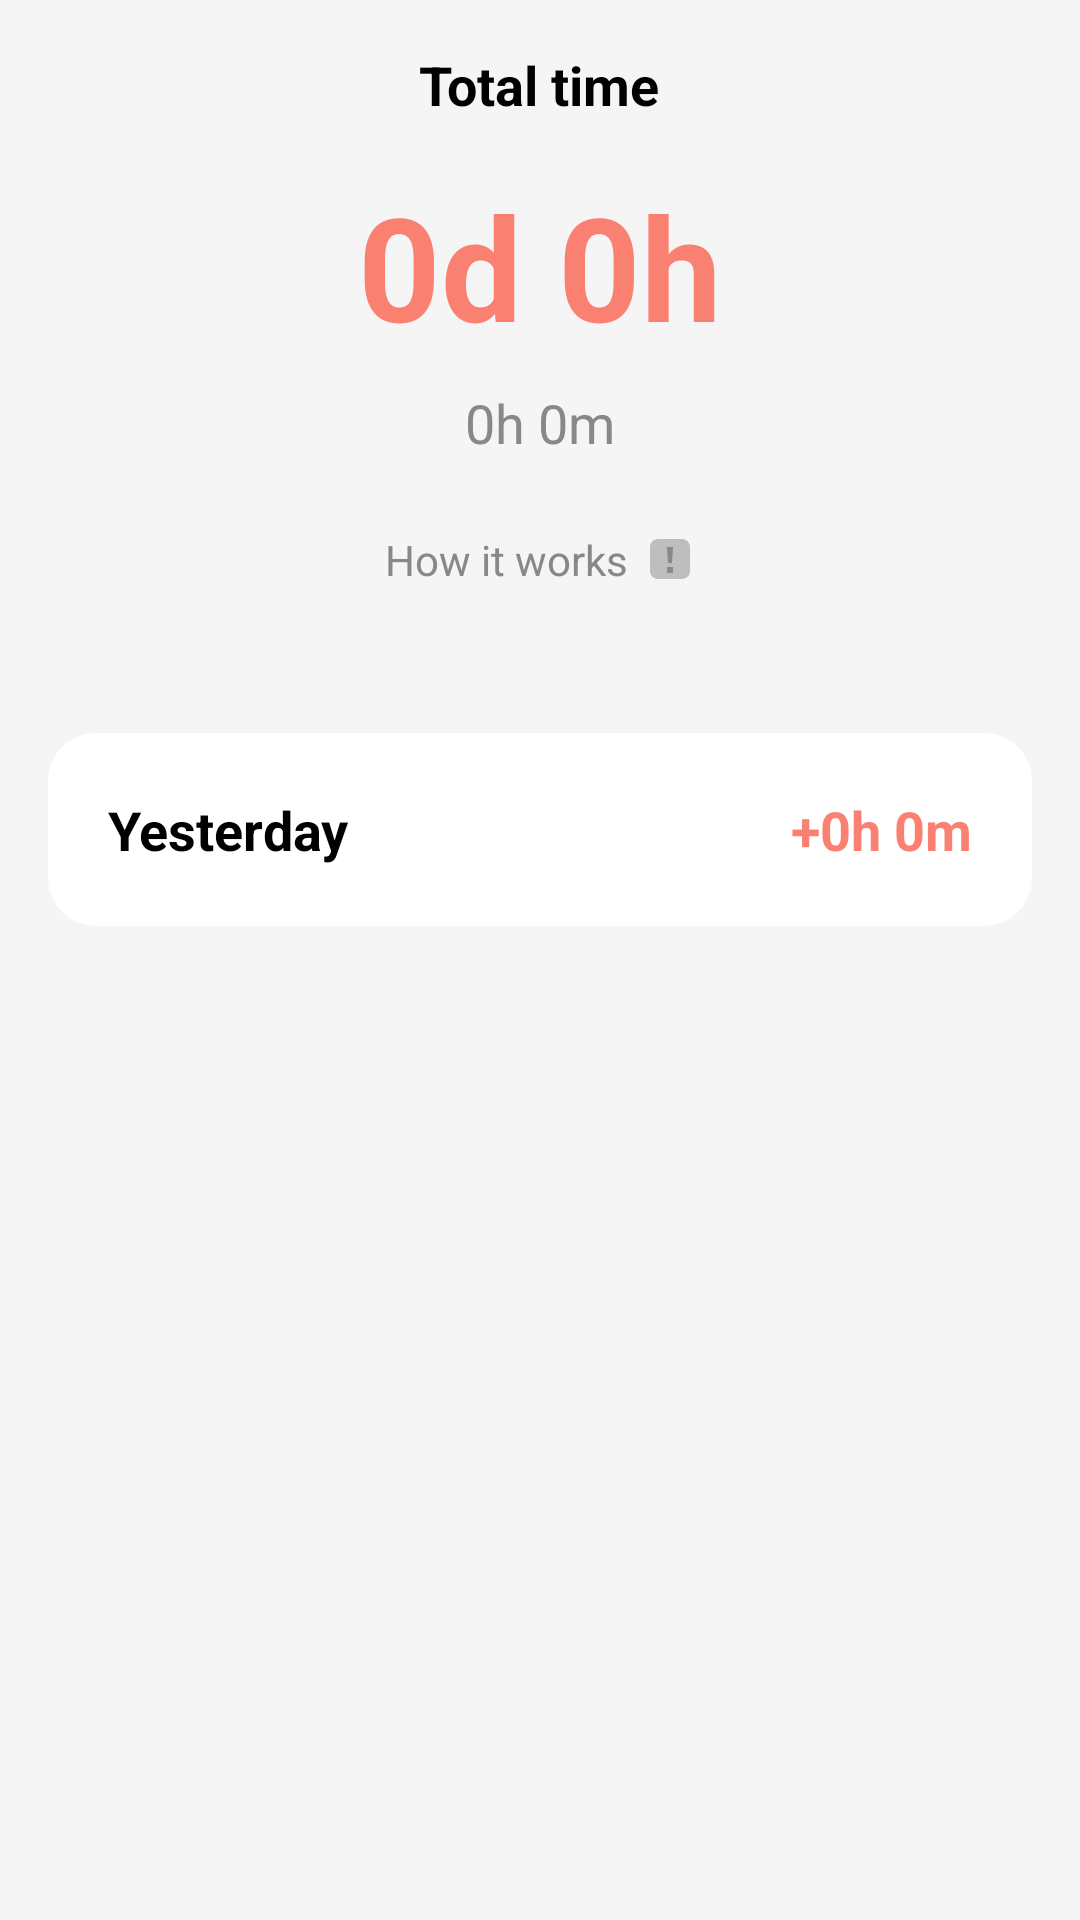

Locate icon controls on the screen. Image size 1080 × 1920, boxes as (x1, y1, x2, y2).
hidden exclamation: (650, 539, 690, 579)
